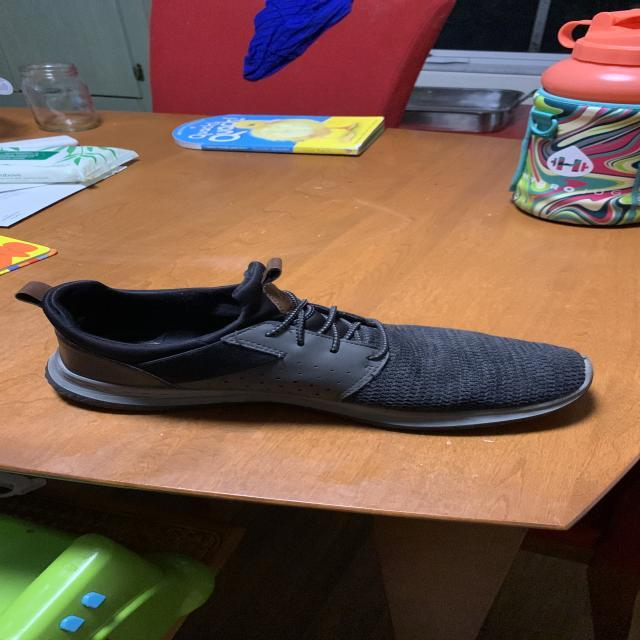shoes: (36, 258, 597, 434)
